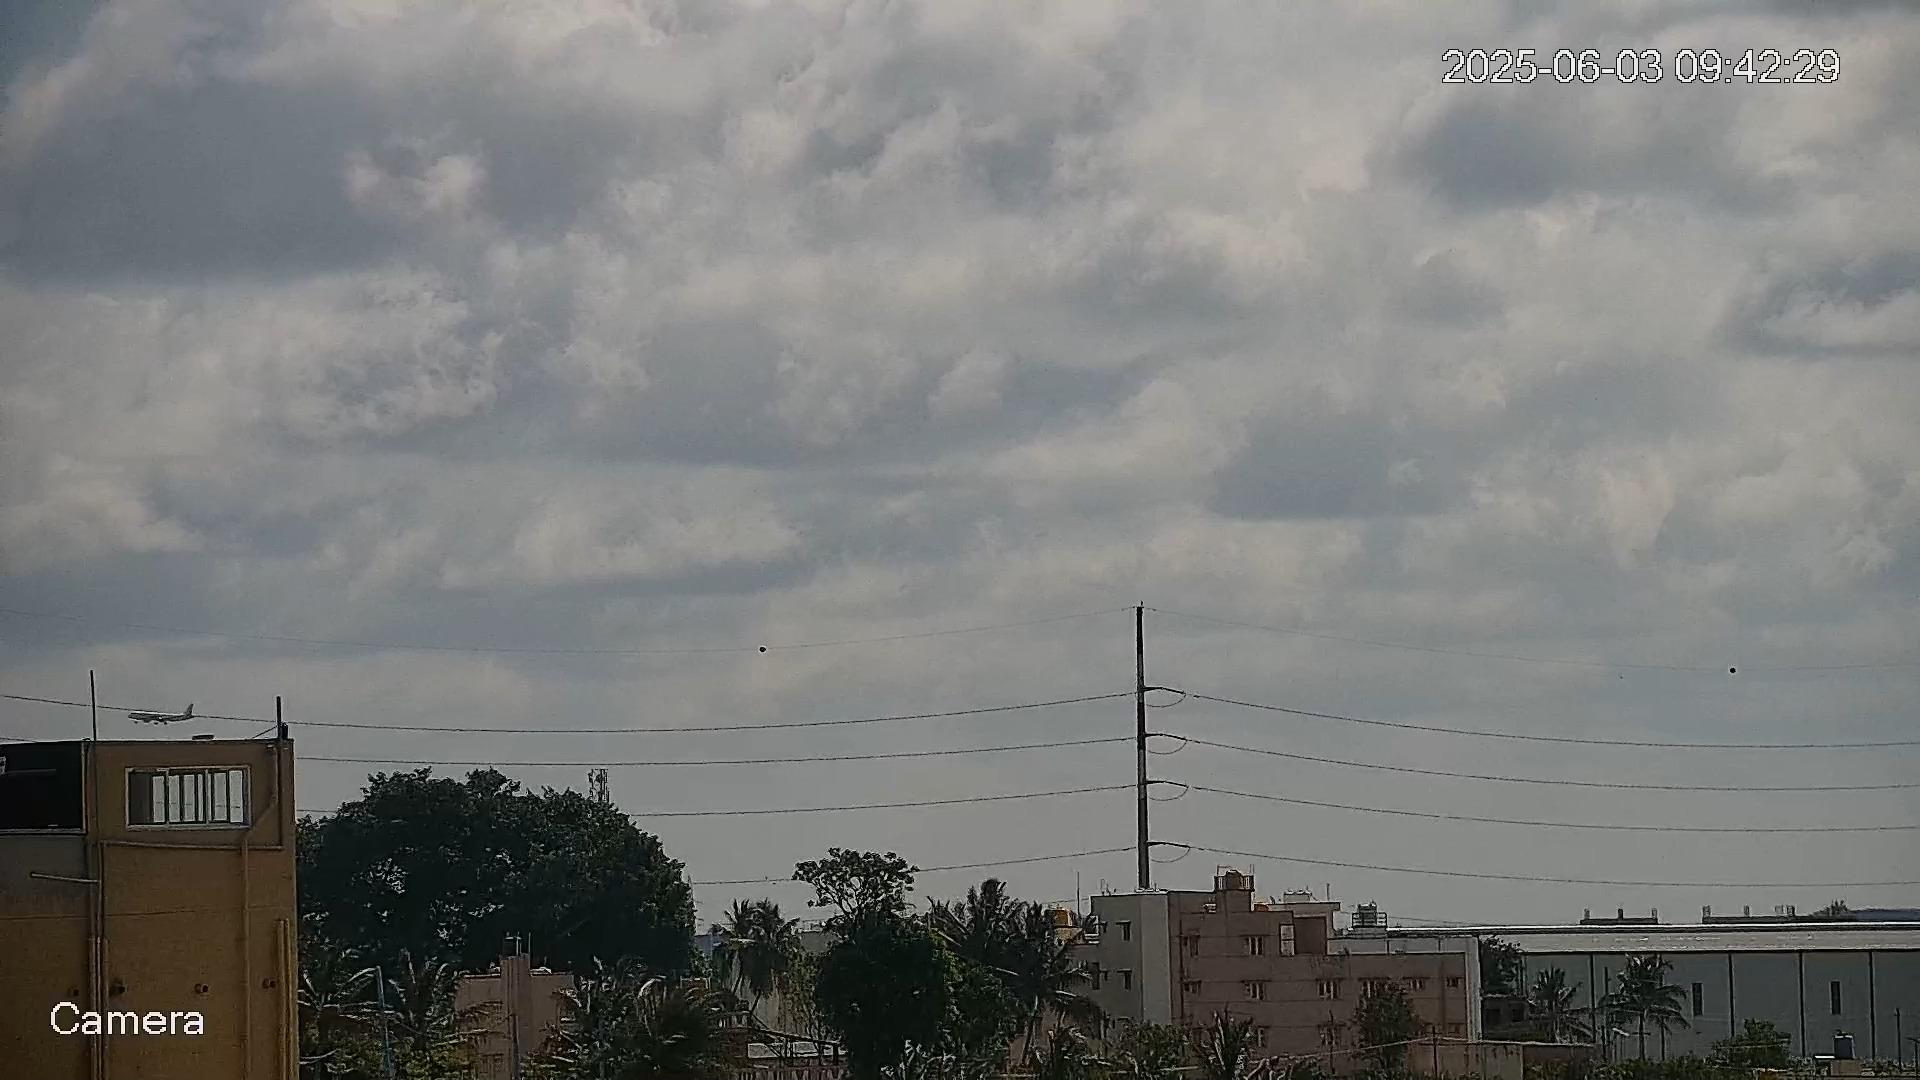Aircraft: (124, 702, 198, 727)
